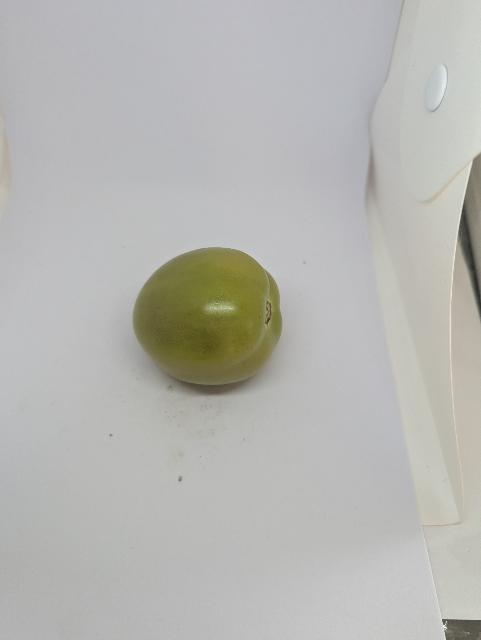green: (114, 242, 286, 411)
